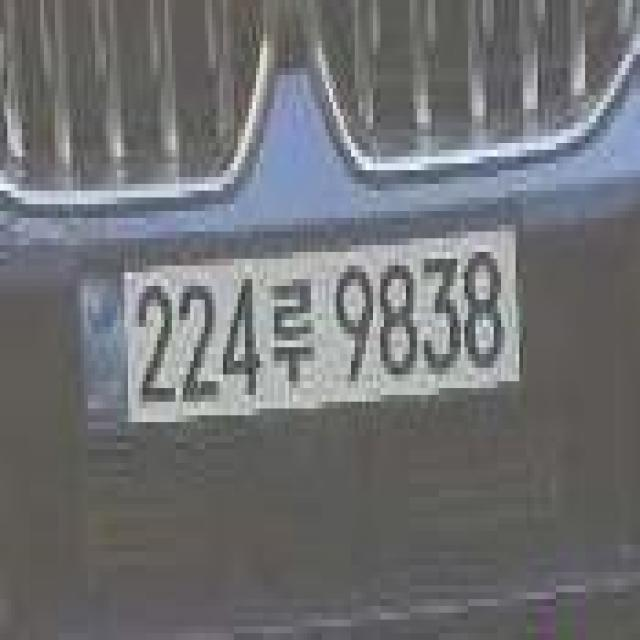illegal_plate: (70, 216, 529, 450)
